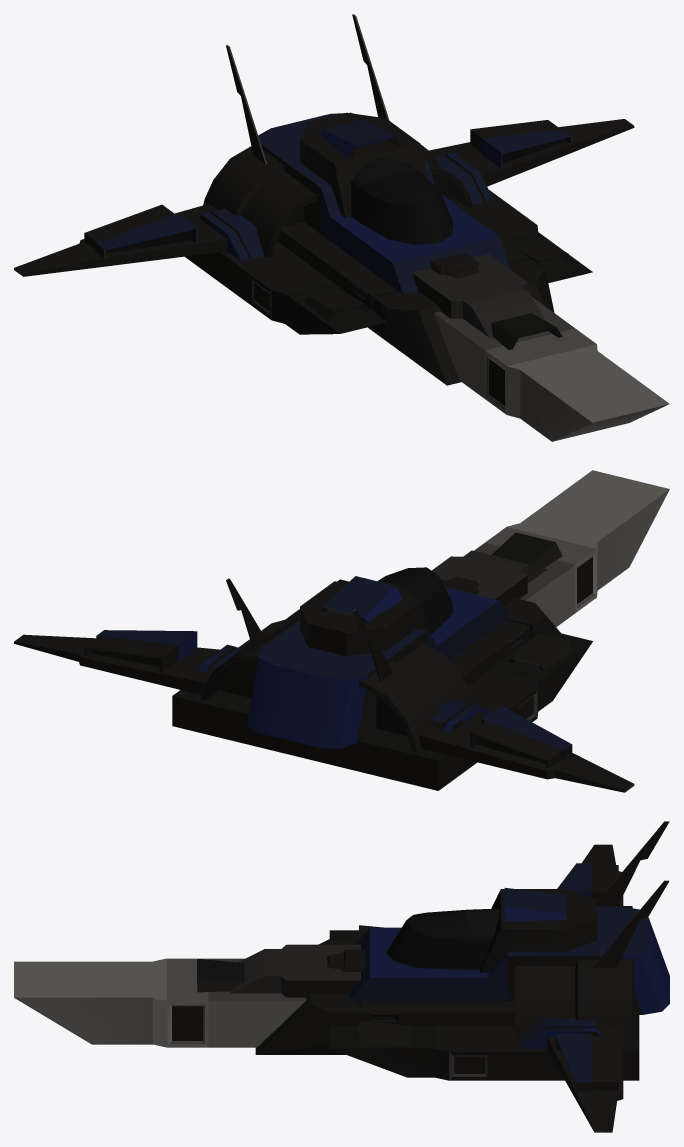
Rendered from challenger.obj.
3 renders of one model, top to bottom at view 1: azimuth 30°, elevation 25°; view 2: azimuth 150°, elevation 25°; view 3: azimuth 270°, elevation 25°, orthographic. The views are drawn at different scales.
Parts seen in each view (by area): view 1: Challenger_Cube.010; view 2: Challenger_Cube.010; view 3: Challenger_Cube.010.
Part boxes in pixels (bbox=[...]): Challenger_Cube.010: bbox=[14, 14, 669, 441]; Challenger_Cube.010: bbox=[14, 470, 669, 792]; Challenger_Cube.010: bbox=[14, 821, 669, 1132].
Bounding box in the file's own units: 10.5 × 3.02 × 10.18.
